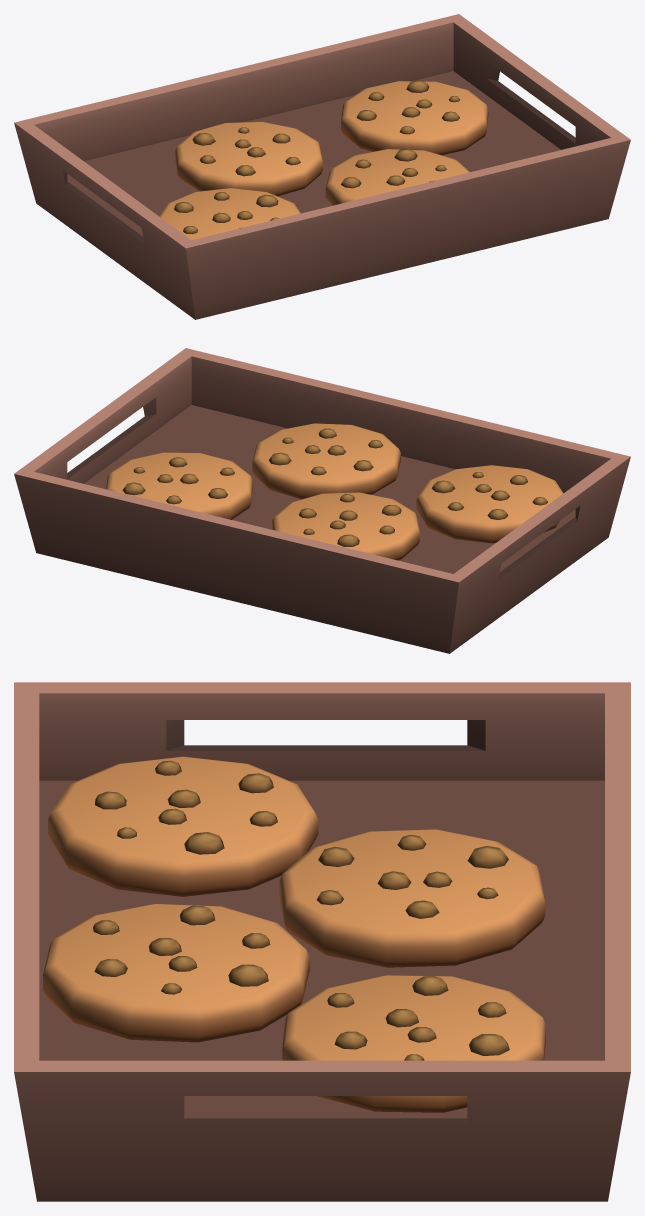
Rendered from kekse.fbx.
3 views of the same model, one above another, from view 1: azimuth 30°, elevation 25°; view 2: azimuth 150°, elevation 25°; view 3: azimuth 270°, elevation 25° (orthographic). The views are drawn at different scales.
Parts seen in each view (by area): view 1: Plane.011, Cylinder.039, Cylinder.037, Cylinder.038, Cylinder.036; view 2: Plane.011, Cylinder.038, Cylinder.036, Cylinder.037, Cylinder.039; view 3: Plane.011, Cylinder.037, Cylinder.038, Cylinder.036, Cylinder.039.
Boxes of the visible parts, x1,y1,x2,y2 form: Plane.011: [14, 14, 630, 319]; Cylinder.039: [341, 80, 488, 155]; Cylinder.037: [175, 121, 322, 196]; Cylinder.038: [325, 149, 469, 205]; Cylinder.036: [159, 188, 300, 239]; Plane.011: [14, 348, 630, 653]; Cylinder.038: [252, 423, 400, 499]; Cylinder.036: [416, 465, 563, 543]; Cylinder.037: [272, 492, 419, 560]; Cylinder.039: [106, 452, 252, 519]; Plane.011: [14, 682, 630, 1201]; Cylinder.037: [279, 829, 545, 967]; Cylinder.038: [43, 903, 309, 1042]; Cylinder.036: [48, 756, 318, 896]; Cylinder.039: [282, 975, 545, 1112].
Bounding box in the file's own units: 23.03 × 3.96 × 15.41.
